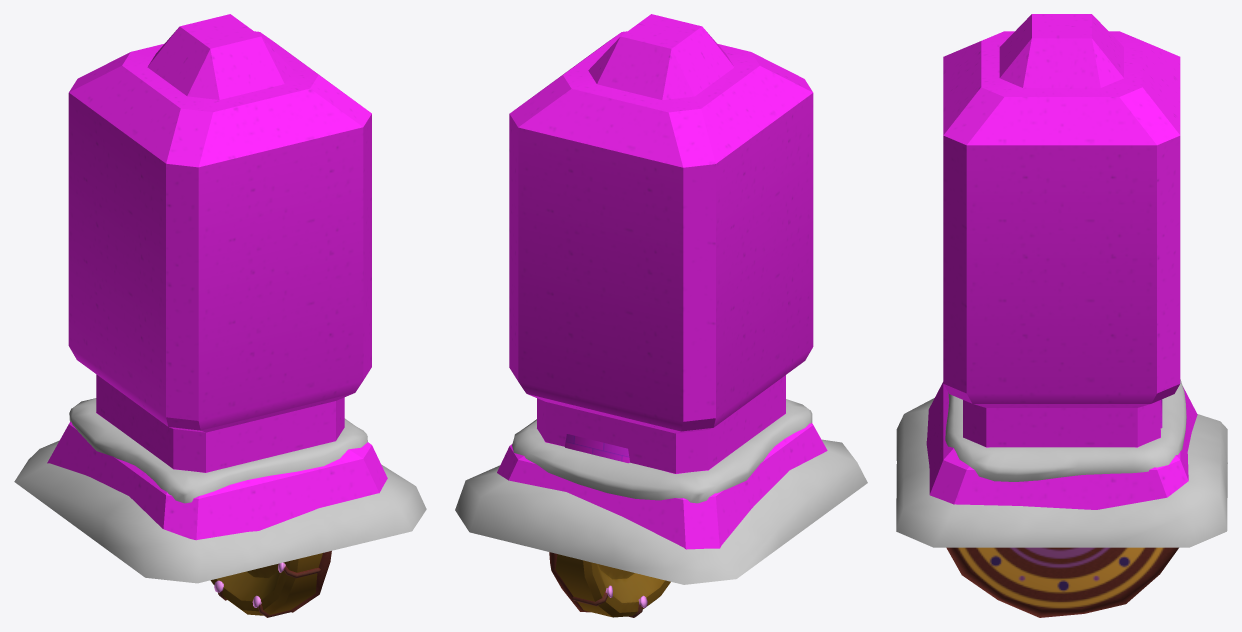
File: Winter_props.fbx
3 renders of one model, left to right at view 1: azimuth 30°, elevation 25°; view 2: azimuth 150°, elevation 25°; view 3: azimuth 270°, elevation 25°, orthographic. The views are drawn at different scales.
Visible parts, largest first — view 1: Totem, Tambourine; view 2: Totem, Tambourine, Mountain_sign; view 3: Totem, Tambourine.
Part boxes in pixels (x1=…): Totem: x1=14, y1=14, x2=426, y2=583; Tambourine: x1=210, y1=551, x2=331, y2=617; Totem: x1=455, y1=14, x2=867, y2=584; Tambourine: x1=549, y1=552, x2=670, y2=617; Mountain_sign: x1=564, y1=434, x2=629, y2=463; Totem: x1=896, y1=14, x2=1227, y2=547; Tambourine: x1=946, y1=547, x2=1178, y2=617.
Bounding box in the file's own units: 89.5 × 177 × 93.38.
